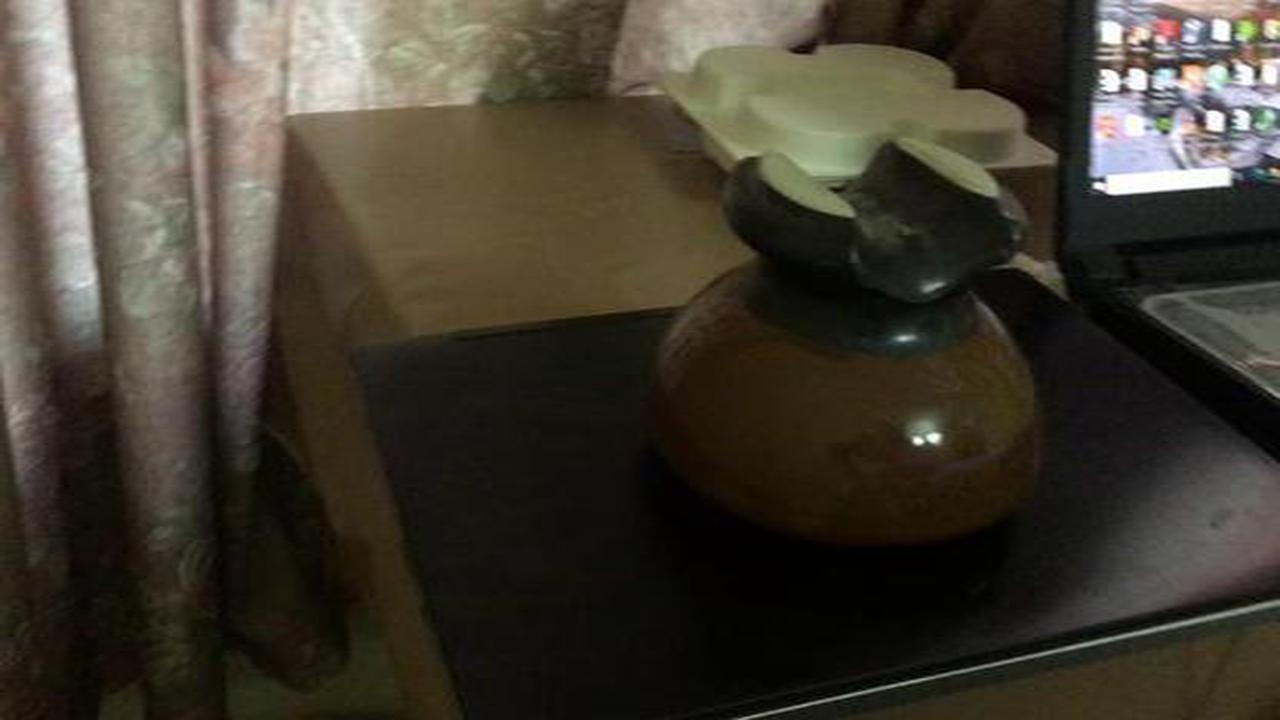insulator_pin: (622, 127, 1081, 570)
